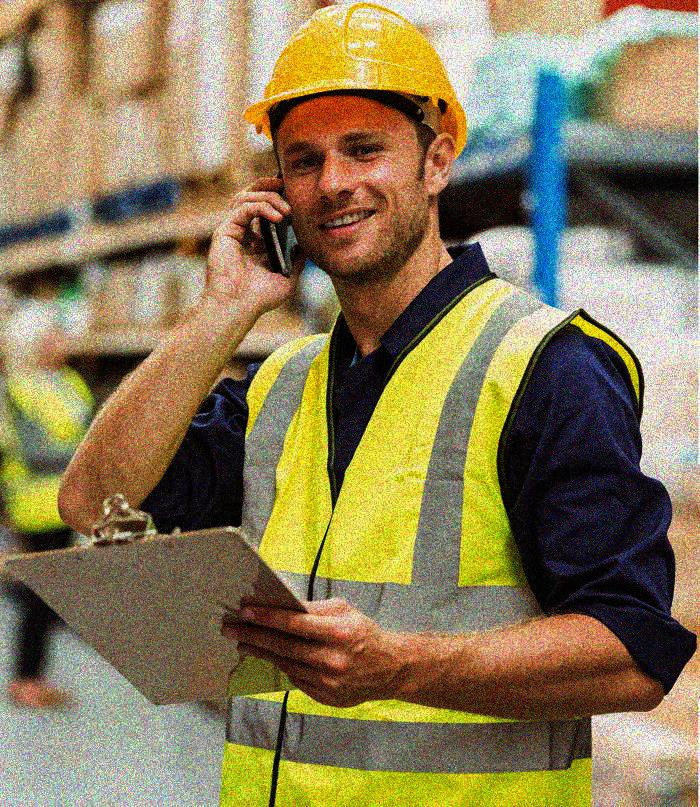helmet: (242, 1, 471, 284)
